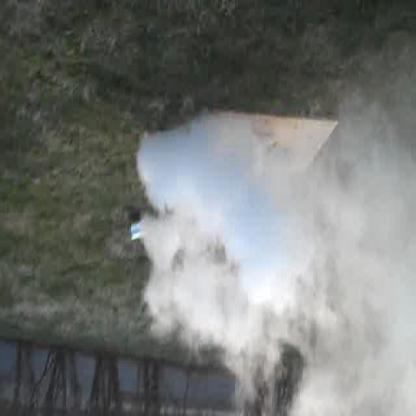Smoke: (139, 141, 409, 395)
